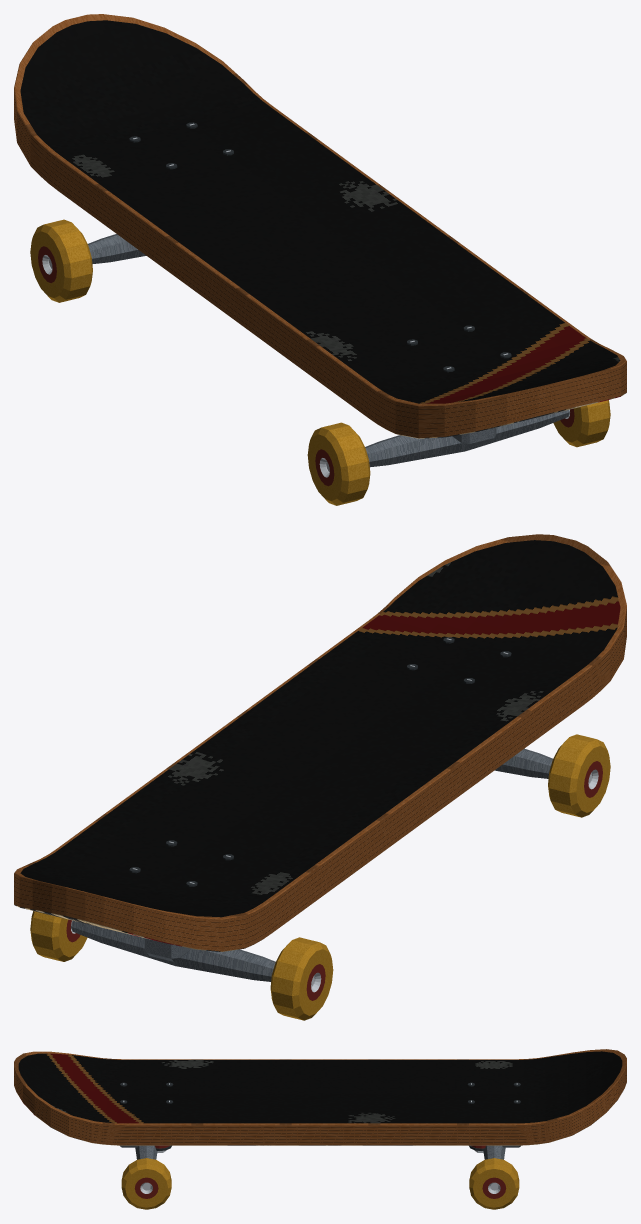
File: curb_riot_03.glb
3 views of the same model, one above another, from view 1: azimuth 30°, elevation 25°; view 2: azimuth 150°, elevation 25°; view 3: azimuth 270°, elevation 25° (orthographic). The views are drawn at different scales.
Visible parts, largest first — view 1: Grip, Deck, Wheel2, Wheel0, BackTruck, Wheel3, FrontTruck; view 2: Grip, Deck, FrontTruck, Wheel0, Wheel2, Wheel1, BackTruck; view 3: Grip, Deck, Wheel1, Wheel3, BackTruck, FrontTruck.
Boxes of the visible parts, x1,y1,x2,y2 form: Grip: (20, 20, 620, 403); Deck: (14, 14, 626, 438); Wheel2: (307, 422, 370, 505); Wheel0: (30, 219, 92, 302); BackTruck: (326, 409, 569, 472); Wheel3: (553, 400, 610, 447); FrontTruck: (49, 234, 146, 269); Grip: (20, 540, 620, 917); Deck: (14, 534, 626, 951); FrontTruck: (71, 920, 314, 987); Wheel0: (270, 937, 333, 1020); Wheel2: (548, 734, 610, 817); Wheel1: (30, 911, 87, 961); BackTruck: (494, 748, 591, 783); Grip: (18, 1051, 622, 1123); Deck: (14, 1049, 626, 1145); Wheel1: (469, 1158, 519, 1209); Wheel3: (121, 1158, 171, 1209); BackTruck: (120, 1145, 171, 1190); FrontTruck: (469, 1145, 520, 1190).
Bounding box in the file's own units: 0.425 × 0.2626 × 1.34.
Materials: 8 (5 with a texture image).
